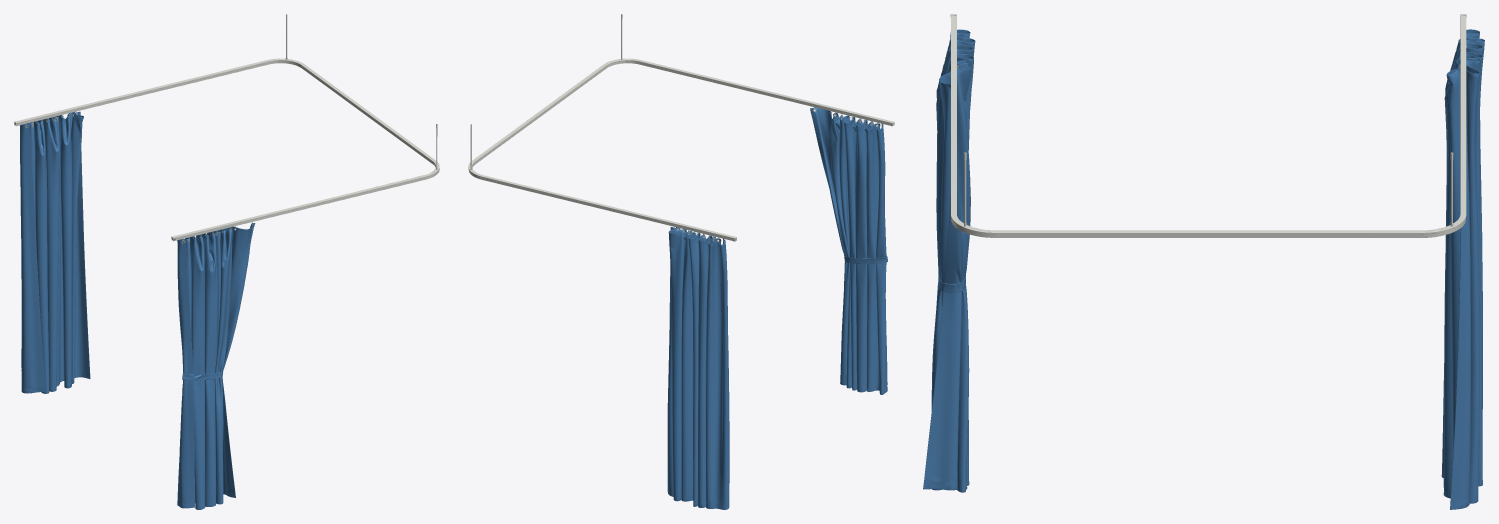
File: screen_hospital_b07.glb
3 views of the same model, side by side, from view 1: azimuth 30°, elevation 25°; view 2: azimuth 150°, elevation 25°; view 3: azimuth 270°, elevation 25° (orthographic). The views are drawn at different scales.
Size of the model in its own units: 3.14 by 3.46 by 3.41.
